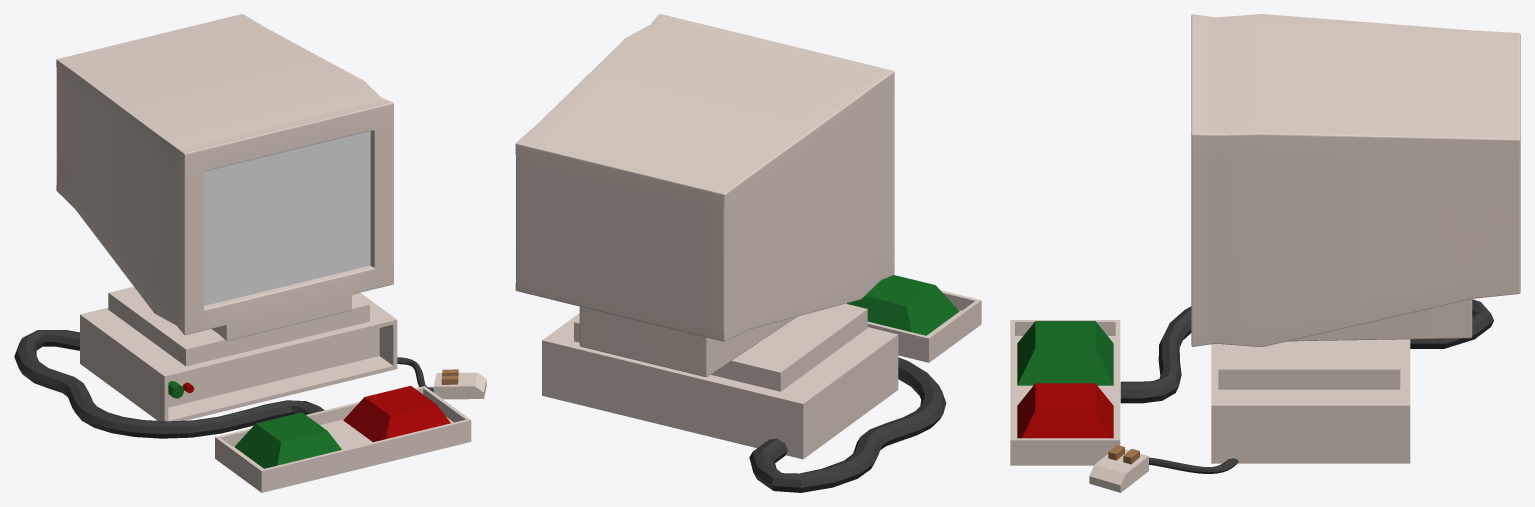
Rendered from ComputerScreen01.fbx.
The picture shows the model from 3 angles, left to right: view 1: azimuth 30°, elevation 25°; view 2: azimuth 150°, elevation 25°; view 3: azimuth 270°, elevation 25°; orthographic projection. The views are drawn at different scales.
Parts seen in each view (by area): view 1: Computer; view 2: Computer; view 3: Computer.
Part boxes in pixels (x1=…): Computer: x1=14, y1=14, x2=486, y2=492; Computer: x1=515, y1=14, x2=981, y2=492; Computer: x1=1010, y1=14, x2=1520, y2=492.
Size of the model in its own units: 26.25 by 20.73 by 28.87.
